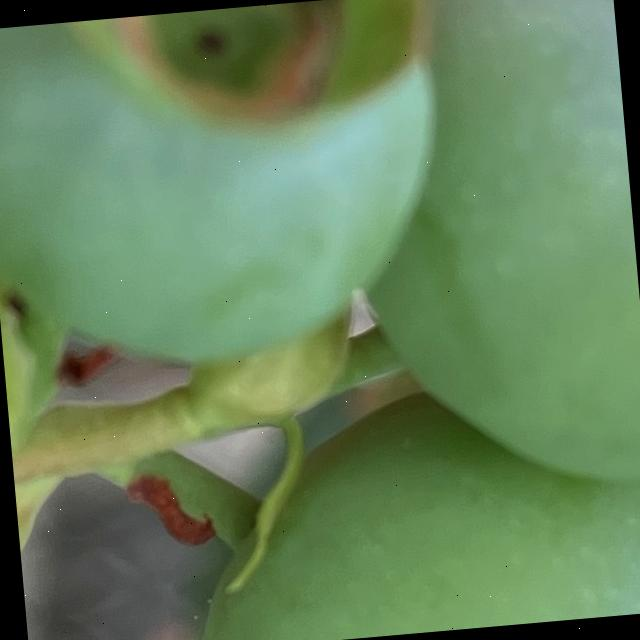Blueberries: (346, 0, 640, 522), (154, 375, 640, 640)
